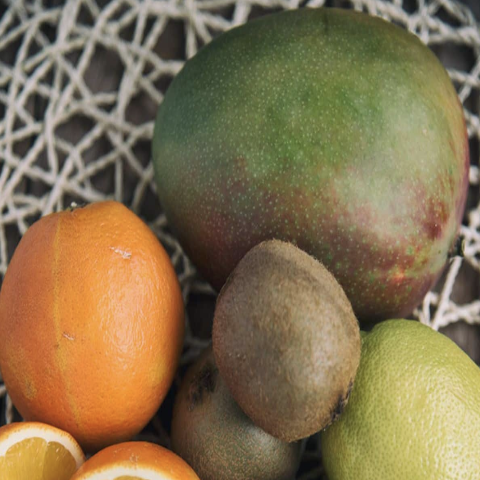kiwi: (117, 1, 480, 319), (213, 231, 359, 444)
orange: (0, 192, 190, 441)
